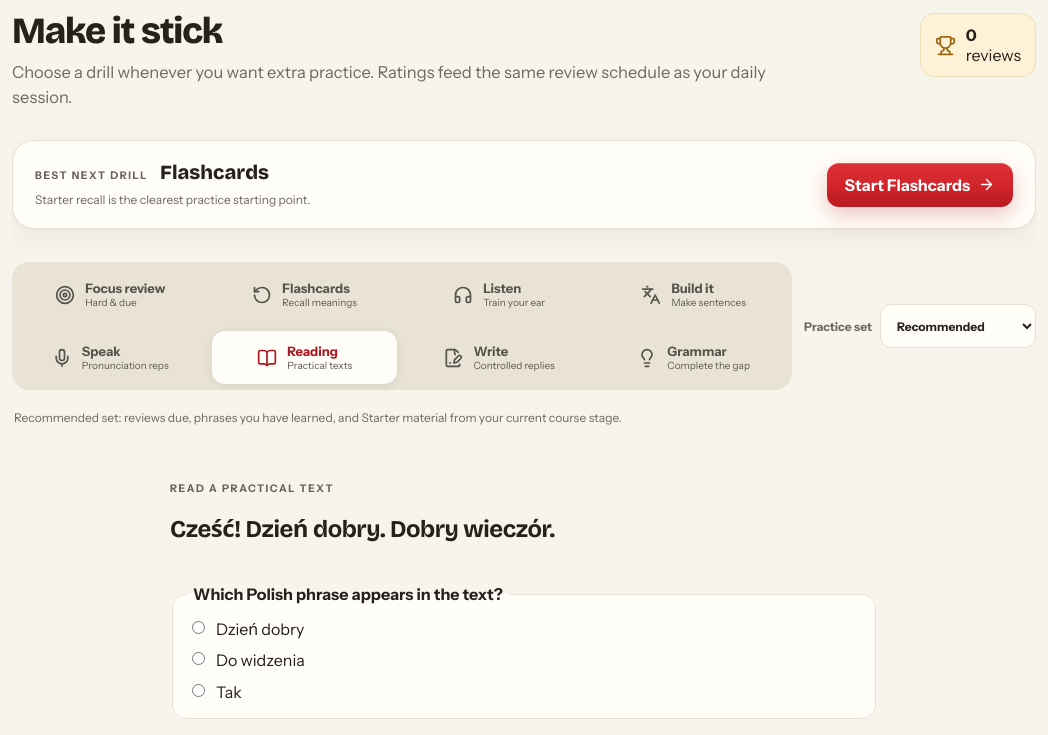
Test: expanded practice modes › scores a complete reading and records reading evidence
Step 1. Click the radio button labelled "Dzień dobry" → (198, 628), box [192, 621, 205, 634]
(page scrolled)
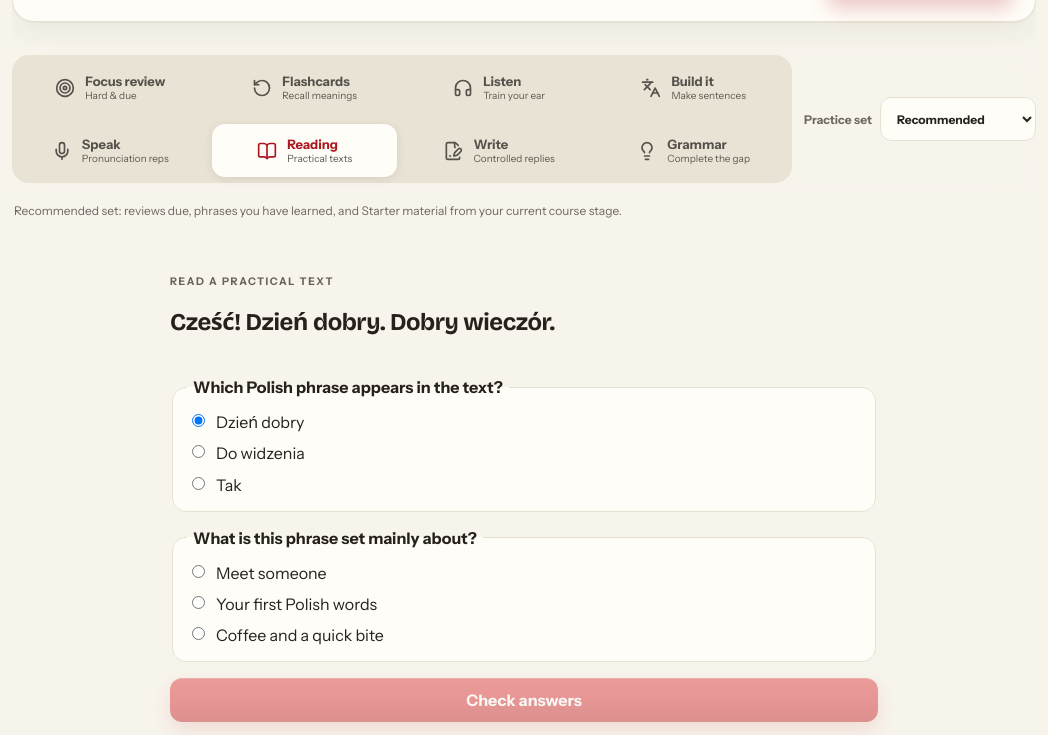
Step 2. Click the radio button labelled "Your first Polish words" → (198, 602), box [192, 596, 205, 609]
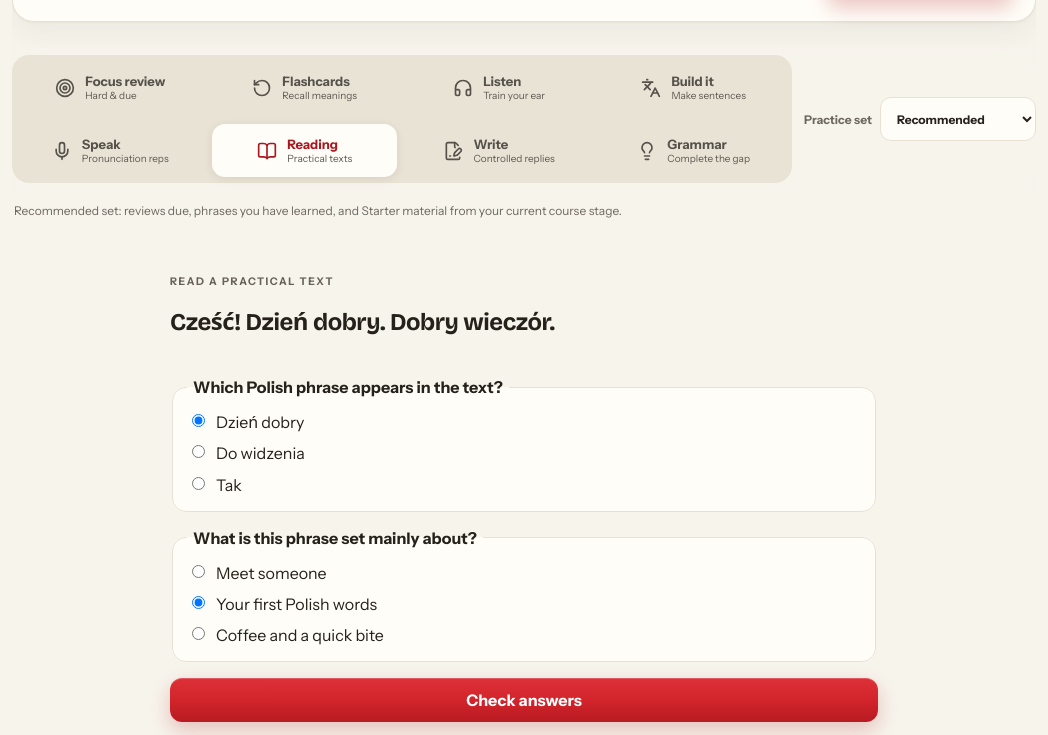
Step 3. Click the button "Check answers" → (524, 700), box [170, 678, 878, 722]
(page scrolled)
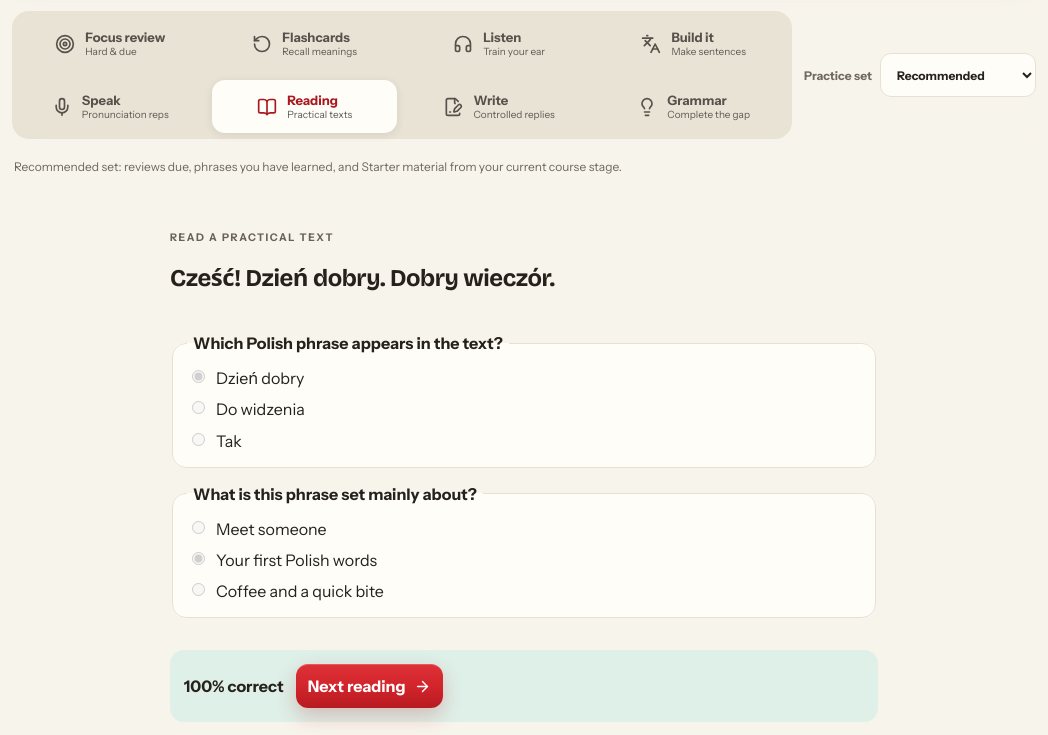
Expected: the message shows "100% correct", [170, 650, 878, 722]
